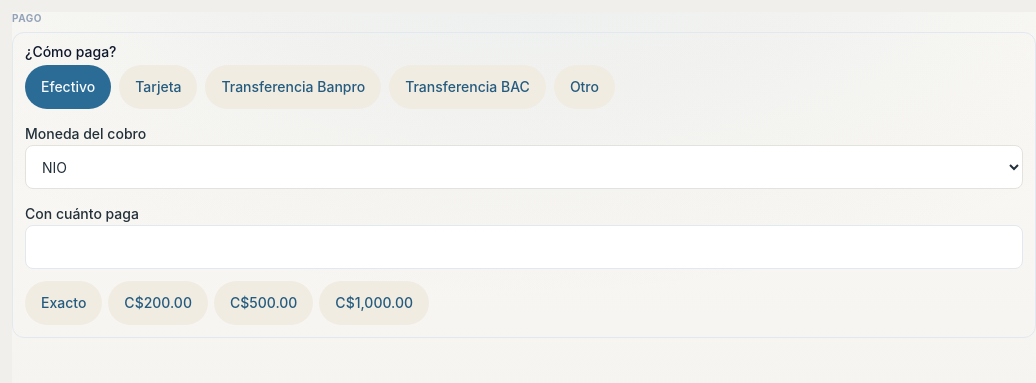
Test: PosPaymentFields › dice cuánto falta cuando el monto no alcanza
Type "20" into the number field labelled "Con cuánto paga" at coordinates (524, 247), box [25,225,1023,269]
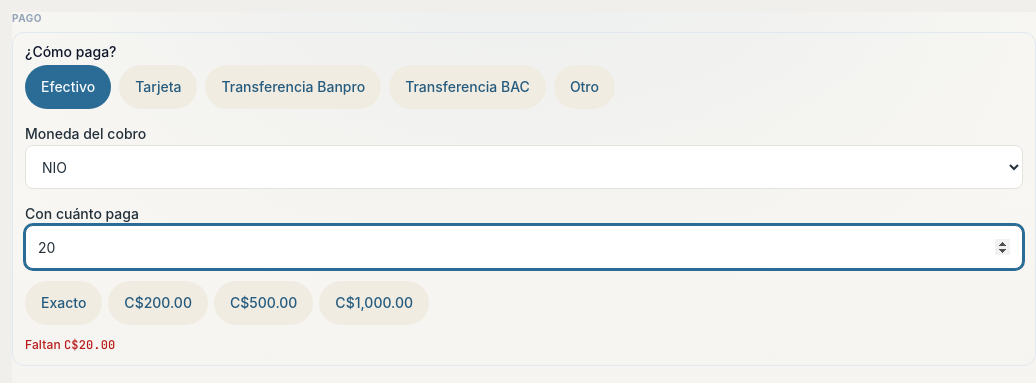
Check: the text "Faltan C$20.00" is shown, box [25,337,115,353]
